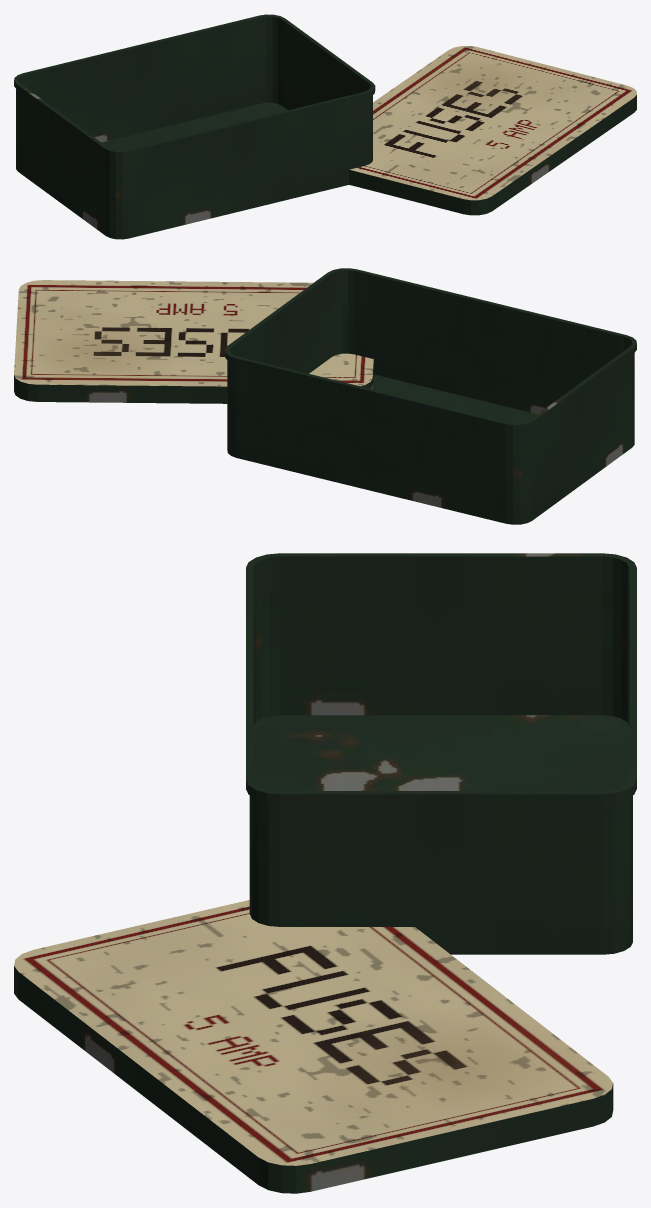
File: study_fuse_tin.glb
3 renders of one model, top to bottom at view 1: azimuth 30°, elevation 25°; view 2: azimuth 150°, elevation 25°; view 3: azimuth 270°, elevation 25°, orthographic. The views are drawn at different scales.
Parts seen in each view (by area): view 1: Fuse_Tin; view 2: Fuse_Tin; view 3: Fuse_Tin.
Boxes of the visible parts, x1,y1,x2,y2 form: Fuse_Tin: [14, 14, 636, 239]; Fuse_Tin: [14, 268, 636, 524]; Fuse_Tin: [14, 553, 636, 1193].
Bounding box in the file's own units: 0.4426 × 0.07 × 0.2437.
Materials: 2 (2 with a texture image).
